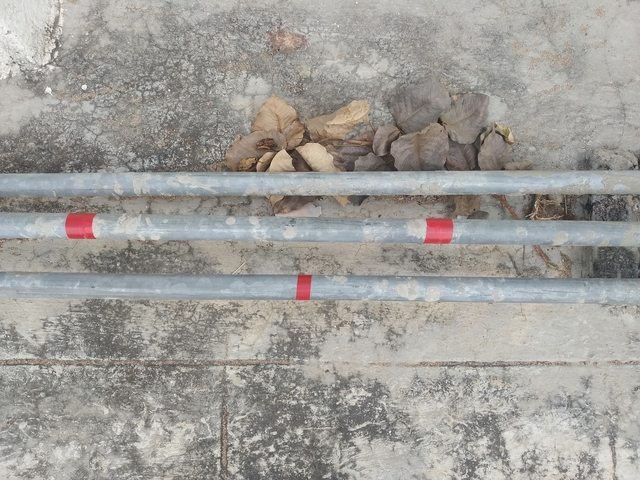rust: (62, 207, 100, 245), (421, 214, 458, 249), (292, 270, 316, 304)
